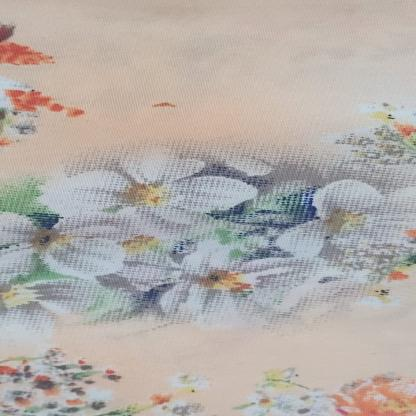spot: (140, 96, 194, 114)
